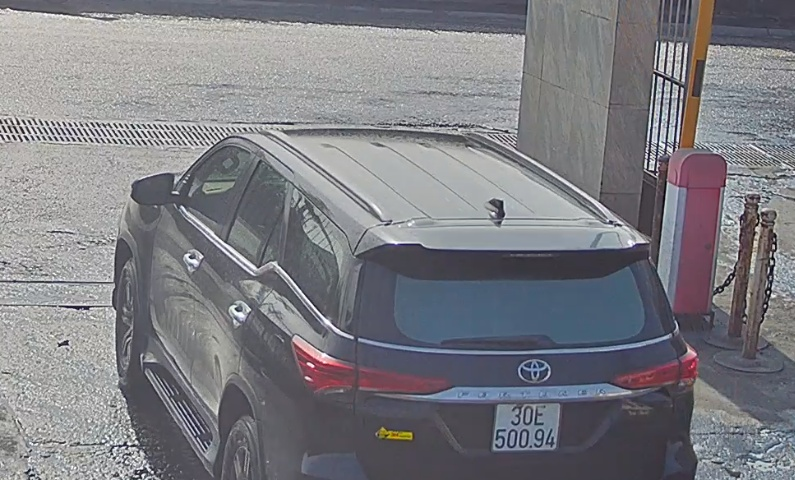vehicle plate: (490, 395, 556, 454)
